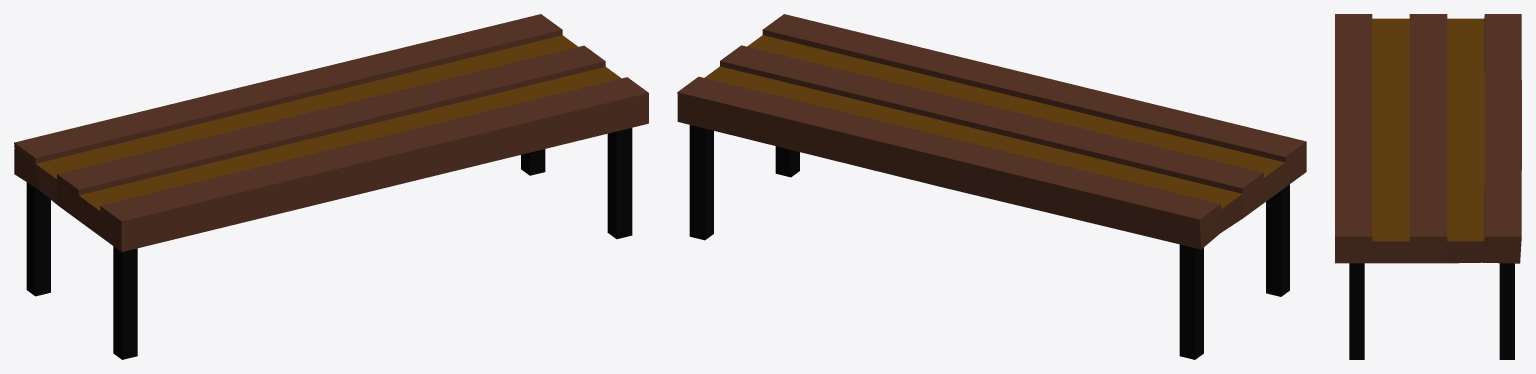
Rendered from bench.fbx.
3 views of the same model, side by side, from view 1: azimuth 30°, elevation 25°; view 2: azimuth 150°, elevation 25°; view 3: azimuth 270°, elevation 25° (orthographic). The views are drawn at different scales.
Visible parts, largest first — view 1: ベンチ; view 2: ベンチ; view 3: ベンチ.
Part boxes in pixels (box(x1,y1,x2,y2)): ベンチ: box(14, 14, 648, 359); ベンチ: box(677, 14, 1306, 359); ベンチ: box(1335, 14, 1521, 359).
Bounding box in the file's own units: 566 × 150 × 200.
